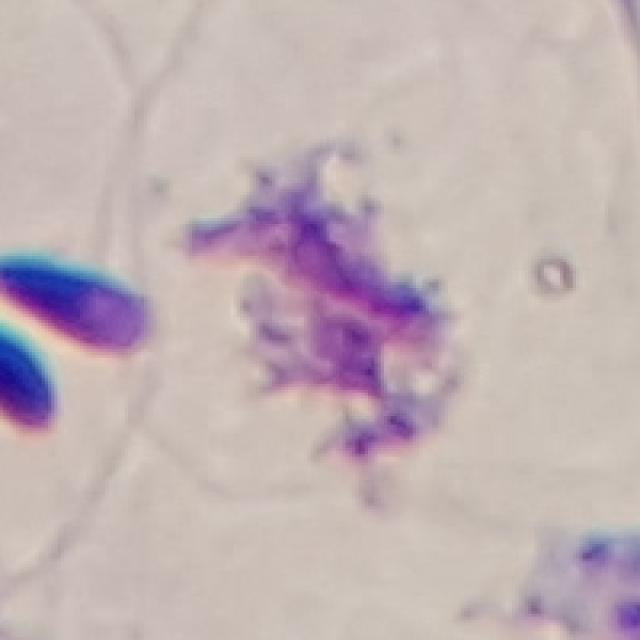non-sperm: (200, 162, 467, 459)
